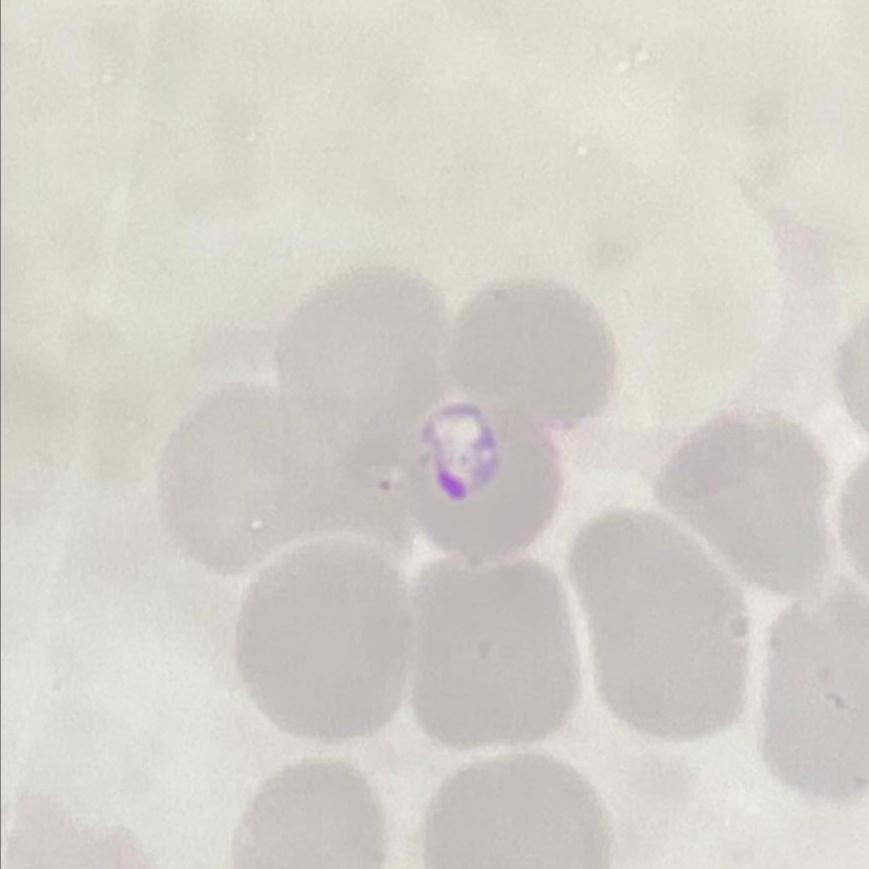Infected: (402, 389, 560, 560)
Uninfected: (155, 387, 425, 570), (567, 510, 754, 740), (240, 542, 417, 743), (400, 555, 582, 747), (660, 414, 833, 588), (278, 267, 453, 426), (452, 279, 617, 439), (758, 585, 869, 806), (418, 755, 612, 869)
